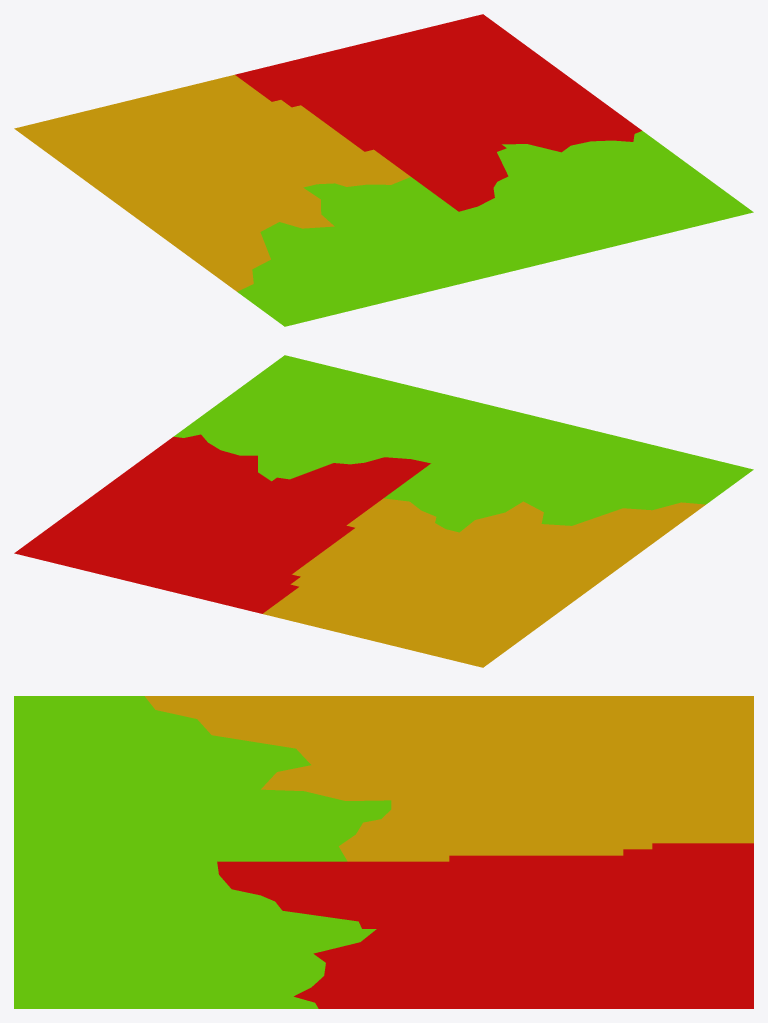
3 views of the same model, one above another, from view 1: azimuth 30°, elevation 25°; view 2: azimuth 150°, elevation 25°; view 3: azimuth 270°, elevation 25° (orthographic). The views are drawn at different scales.
Size of the model in its own units: 2 by 0 by 2.
